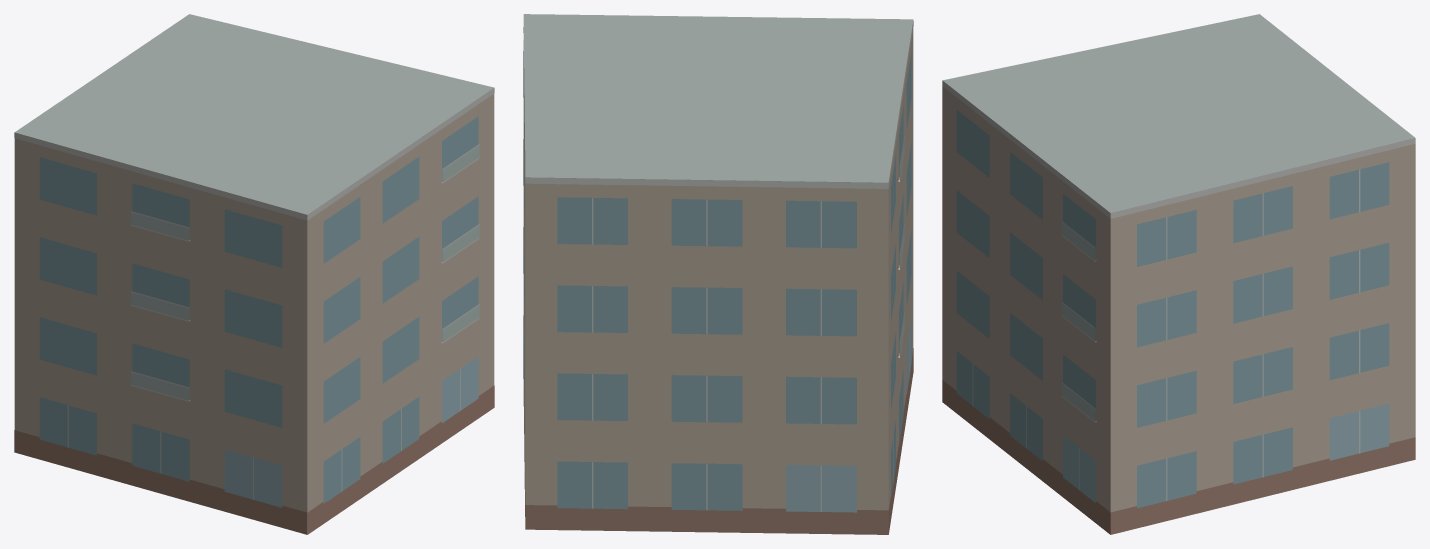
Rendered from survey-upis-32747024.glb.
3 renders of one model, left to right at view 1: azimuth 30°, elevation 25°; view 2: azimuth 150°, elevation 25°; view 3: azimuth 270°, elevation 25°, orthographic. The views are drawn at different scales.
Visible parts, largest first — view 1: survey-upis-32747024.tmp; view 2: survey-upis-32747024.tmp; view 3: survey-upis-32747024.tmp.
Boxes of the visible parts, x1,y1,x2,y2 form: survey-upis-32747024.tmp: [14, 14, 494, 534]; survey-upis-32747024.tmp: [523, 14, 913, 534]; survey-upis-32747024.tmp: [942, 14, 1415, 534].
Bounding box in the file's own units: 18.06 × 13.6 × 18.14.
